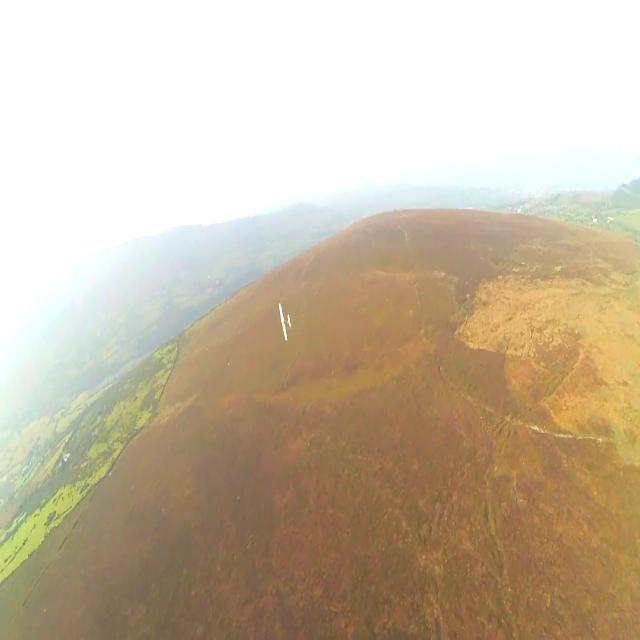iha: (272, 299, 297, 342)
